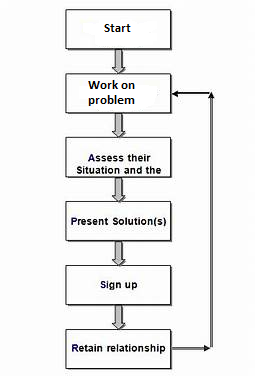arrow: (208, 92, 215, 350), (111, 302, 127, 331), (110, 46, 126, 74), (110, 176, 126, 204), (111, 110, 126, 139), (112, 238, 126, 267), (171, 90, 213, 98), (170, 344, 210, 352)
process: (63, 6, 175, 52), (63, 263, 174, 308), (63, 135, 173, 180), (63, 198, 173, 243), (63, 71, 174, 115), (63, 327, 174, 371)
text: (75, 152, 164, 175), (86, 79, 139, 106), (69, 215, 167, 228), (70, 342, 166, 355), (98, 279, 139, 291), (102, 22, 131, 33)
